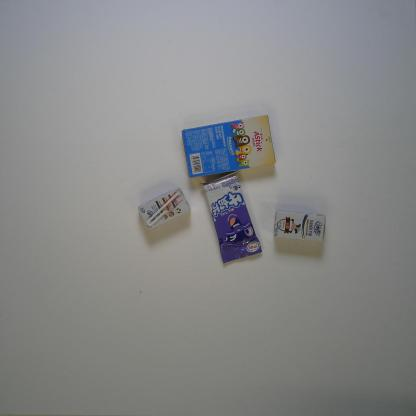Candy: (199, 169, 262, 266)
Dessert: (181, 114, 277, 181)
Milk: (136, 186, 192, 232), (273, 210, 326, 242)
